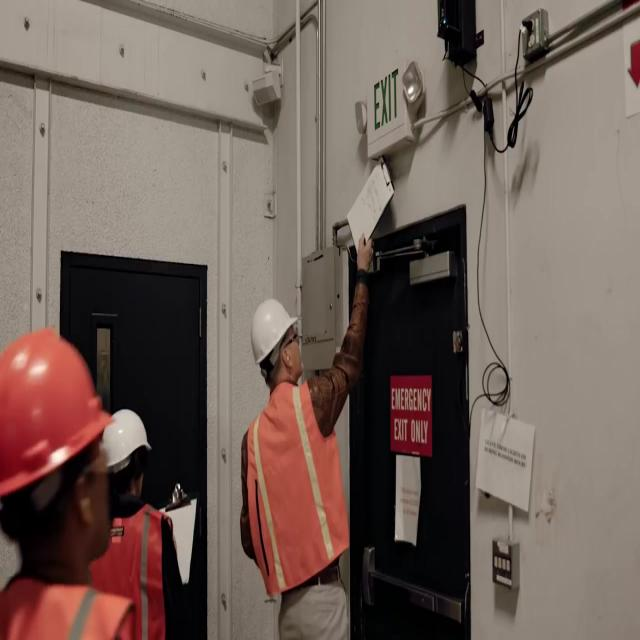Reflective-Jacket: (230, 377, 362, 607), (83, 498, 203, 640), (0, 549, 140, 639)
Safety-Helmet: (0, 318, 118, 513), (242, 286, 304, 374), (99, 397, 159, 482)
